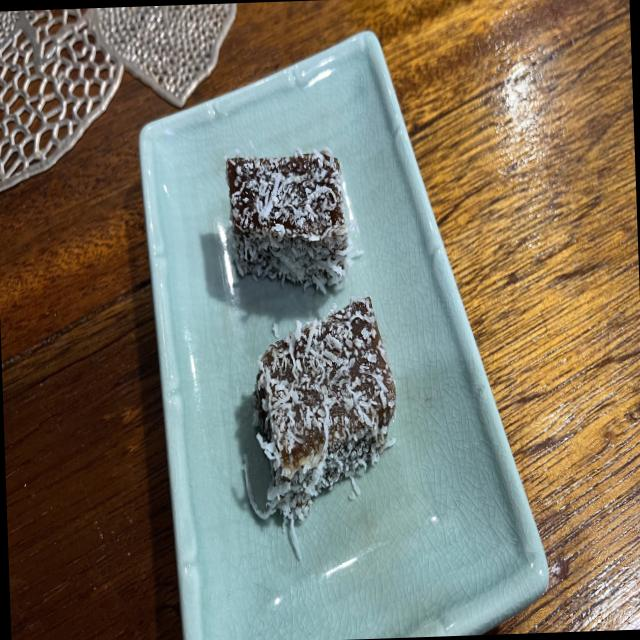kaswi: (244, 296, 396, 559), (226, 148, 351, 293)
